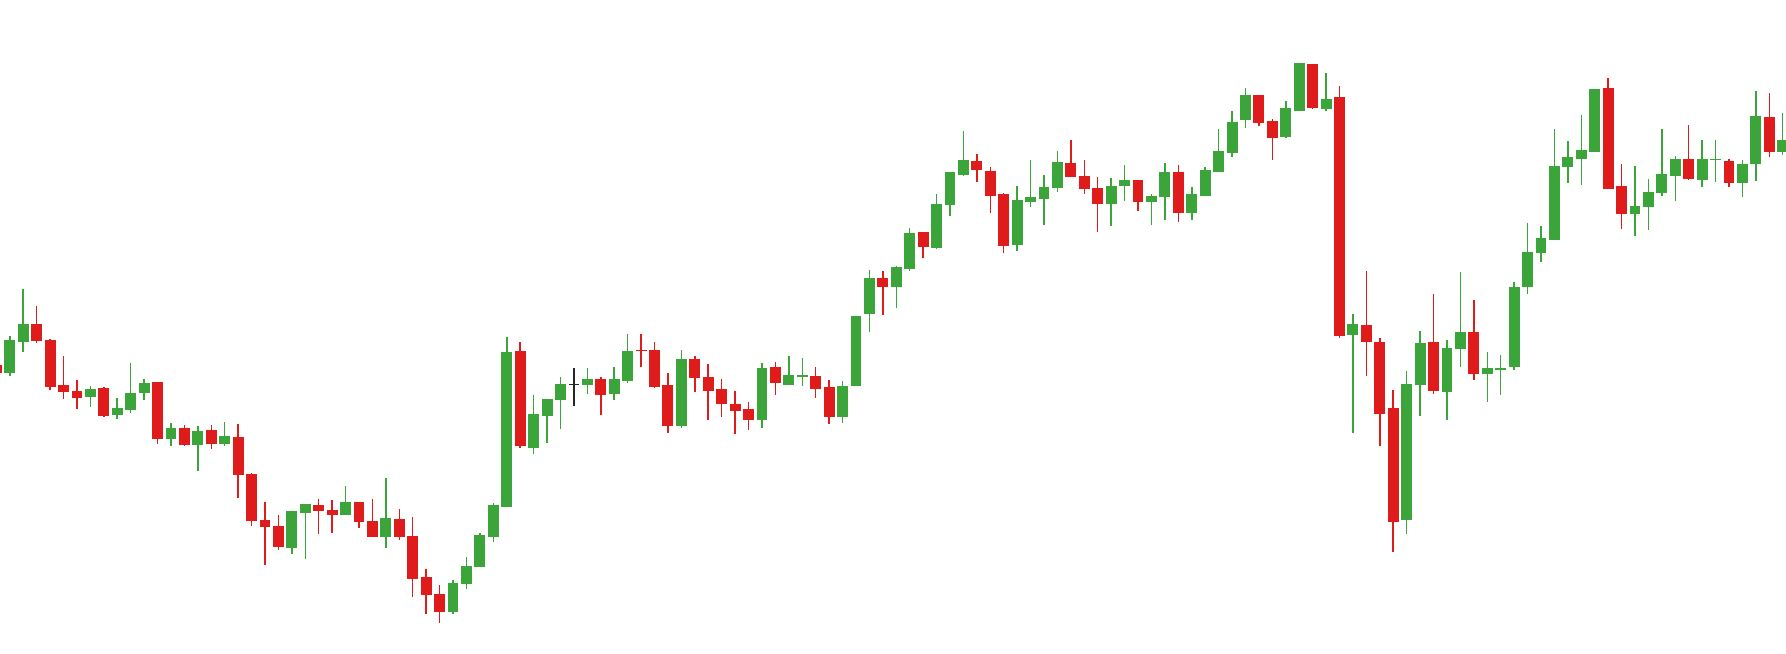buy: (593, 365, 689, 438)
sell: (1240, 65, 1321, 124)
